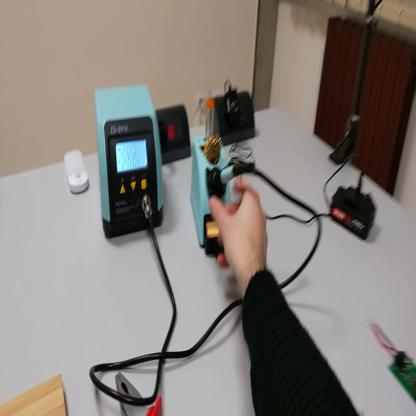electric screwdriver battery: (332, 189, 378, 243)
hand: (209, 180, 269, 277)
high voltage board: (371, 323, 416, 404)
pliers: (114, 373, 162, 413)
socket: (217, 87, 255, 149), (156, 103, 192, 166)
welder base: (194, 98, 235, 258)
welder station: (95, 78, 166, 243)
working area: (2, 374, 69, 415)
